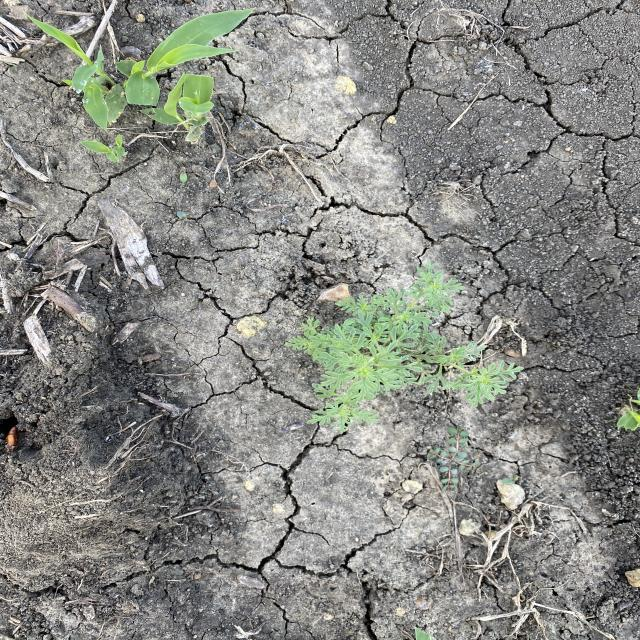Ragweed: (279, 267, 525, 437)
SpottedSpurge: (418, 423, 483, 495)
